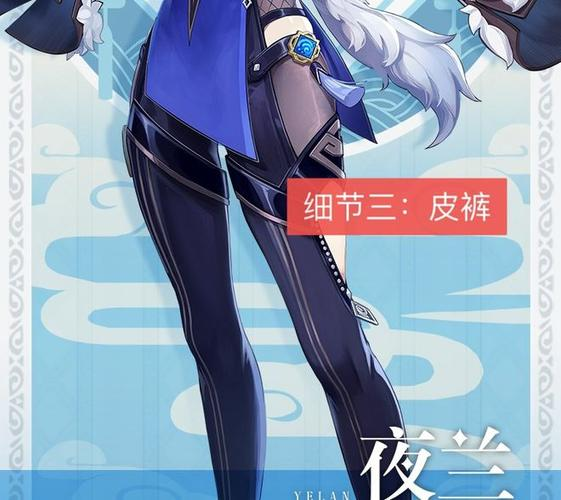夜兰: (117, 1, 413, 499)
